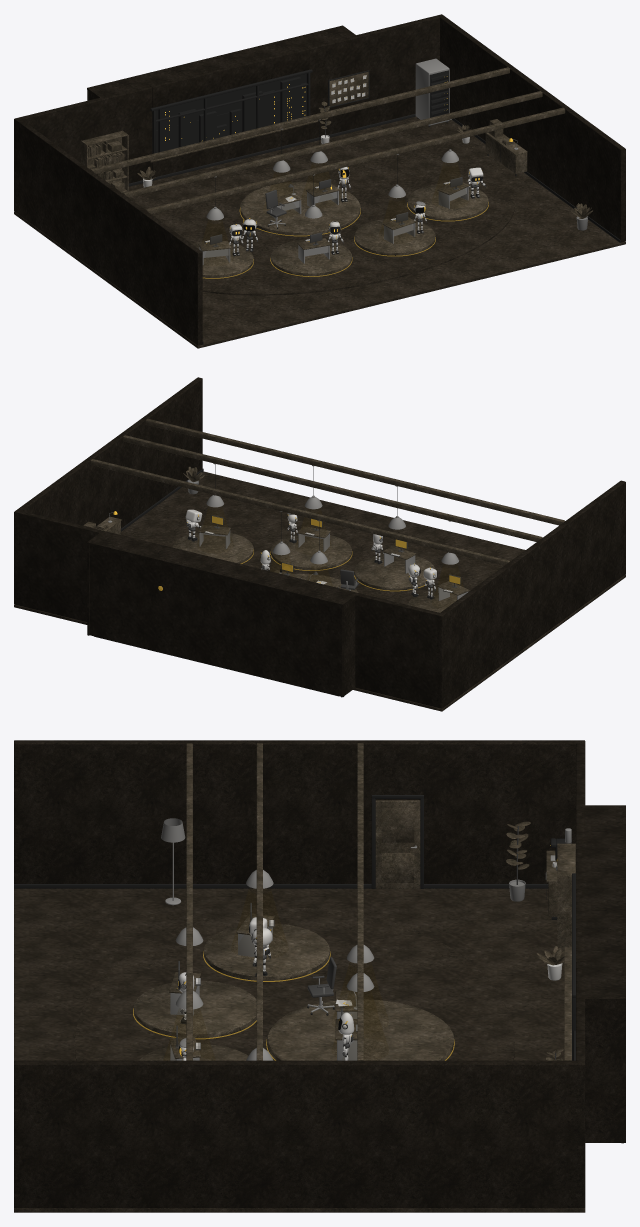
The model's file is desktop.glb.
3 views of the same model, one above another, from view 1: azimuth 30°, elevation 25°; view 2: azimuth 150°, elevation 25°; view 3: azimuth 270°, elevation 25° (orthographic). The views are drawn at different scales.
Visible parts, largest first — view 1: office_set; view 2: office_set; view 3: office_set.
Boxes of the visible parts, x1,y1,x2,y2 form: office_set: (14,14,625,348); office_set: (14,377,625,711); office_set: (14,740,625,1212).
Bounding box in the file's own units: 16.4 × 3.52 × 13.07.
Materials: 20 (6 with a texture image).
